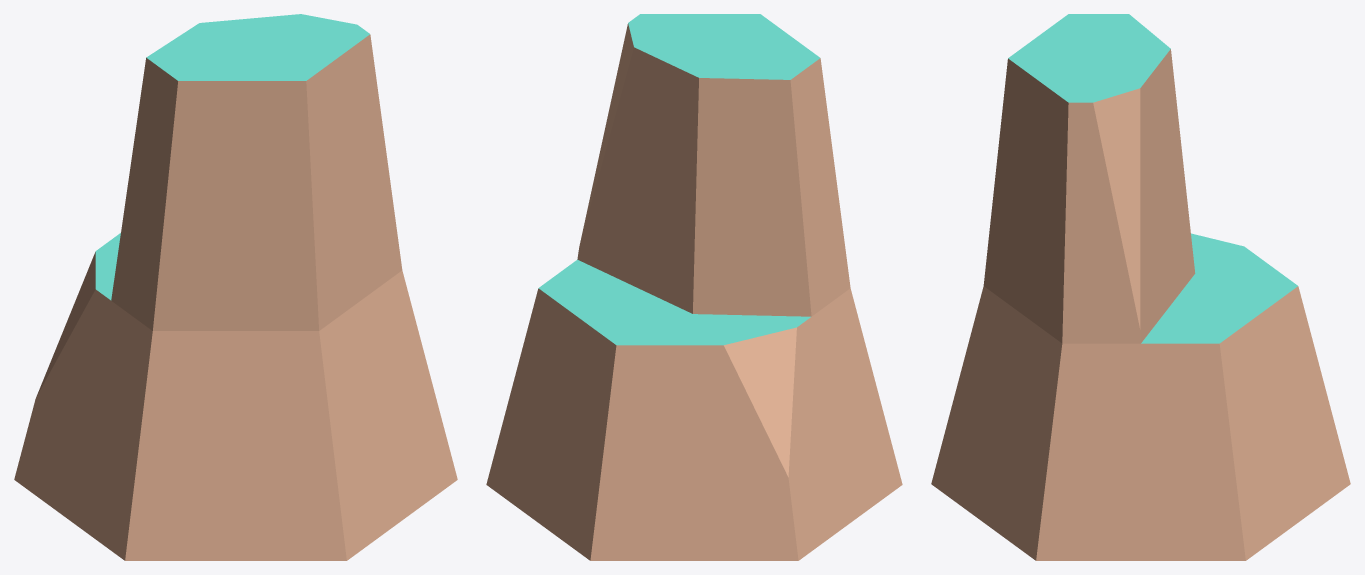
The model's file is rock_tallF.glb.
The picture shows the model from 3 angles, left to right: view 1: azimuth 30°, elevation 25°; view 2: azimuth 150°, elevation 25°; view 3: azimuth 270°, elevation 25°; orthographic projection. The views are drawn at different scales.
Visible parts, largest first — view 1: rock_tallF; view 2: rock_tallF; view 3: rock_tallF.
Part boxes in pixels (x1,y1,x2,y2): rock_tallF: (14,14,457,560); rock_tallF: (486,14,902,560); rock_tallF: (931,14,1350,560).
Size of the model in its own units: 0.4437 by 0.5737 by 0.5123.
